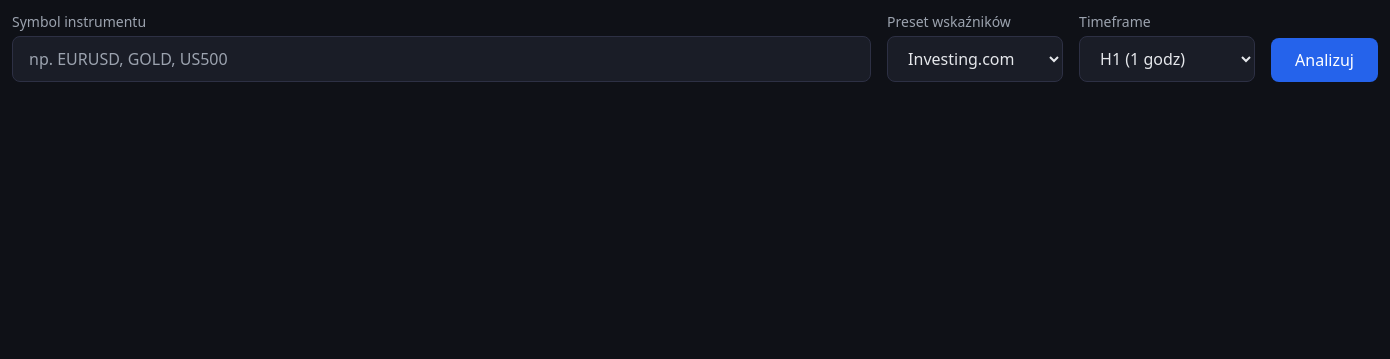
Test: AnalysisForm › lista sugestii pojawia się po wpisaniu znaku
In the dropdown labelled "Symbol instrumentu": (442, 59) [12, 36, 871, 82], type "EU"
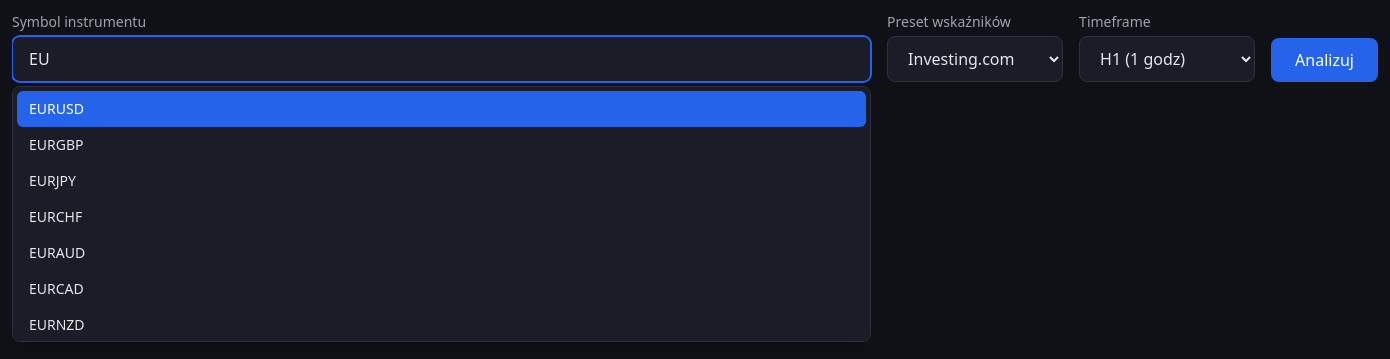
Result: the button "EURUSD" is shown at [17, 91, 866, 127]
Result: the button "EURGBP" is shown at [17, 127, 866, 163]
